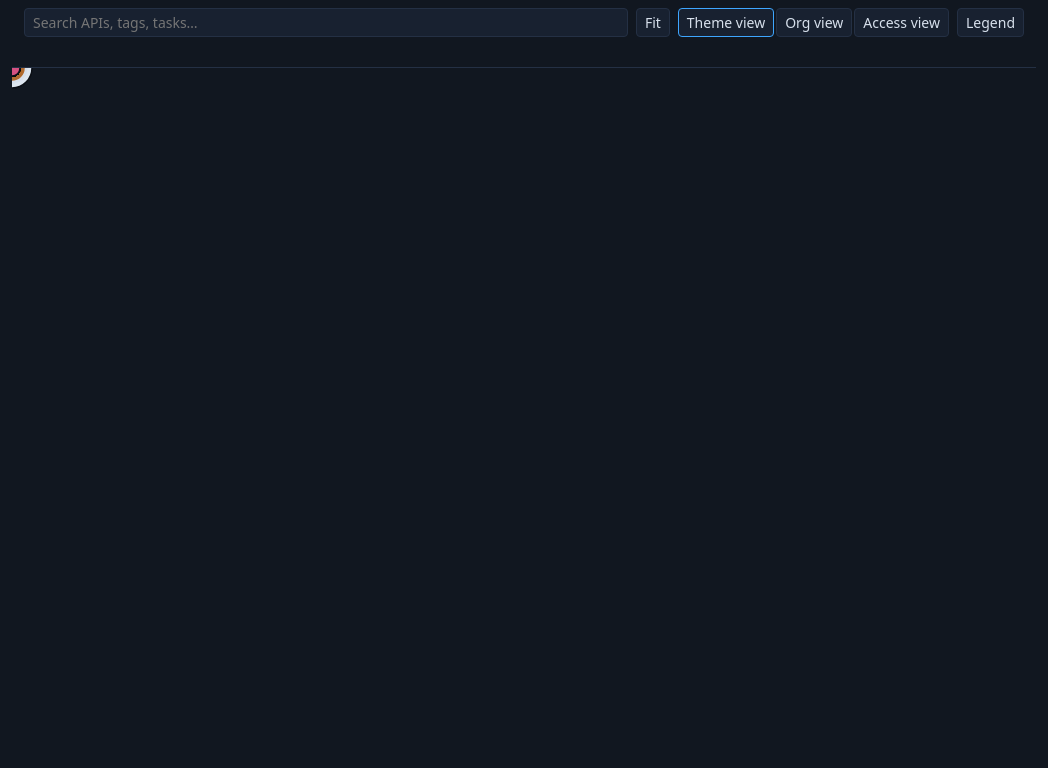
Test: GraphView search › shows a no-results message when nothing matches
The image size is (1048, 768).
Type "xyzzy" into the search field named "Search graph" at (326, 22), box [24,8,628,37]
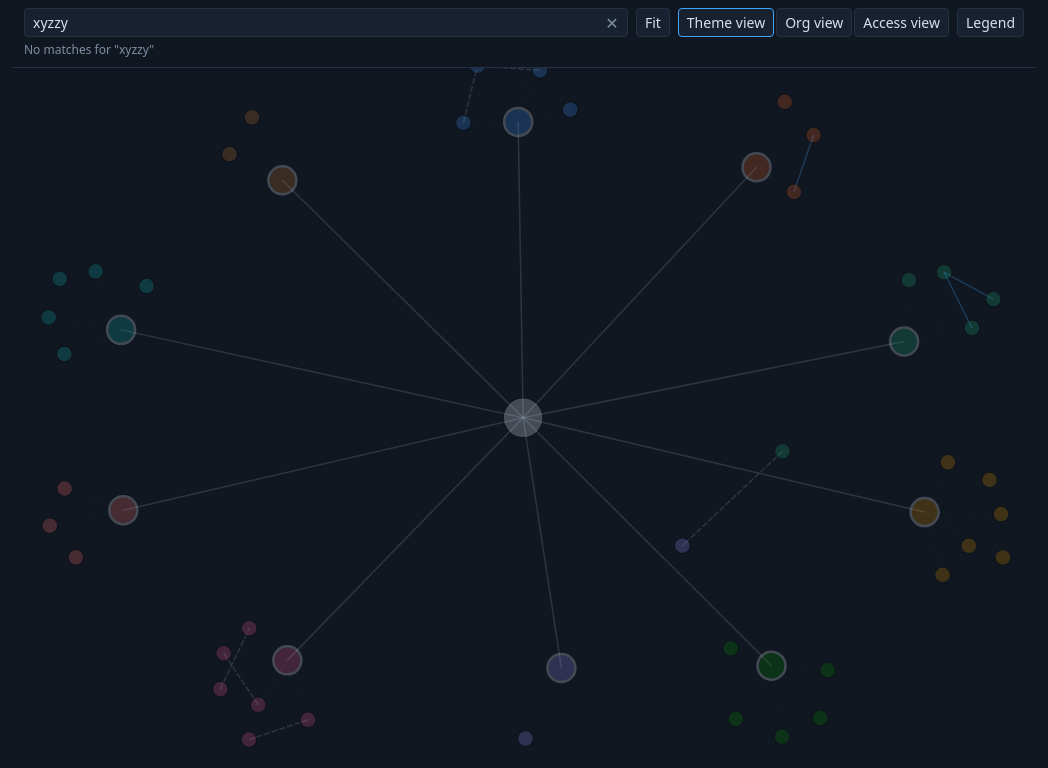
Check: the message reads "No matches for \"xyzzy\"", box [24,41,154,58]
